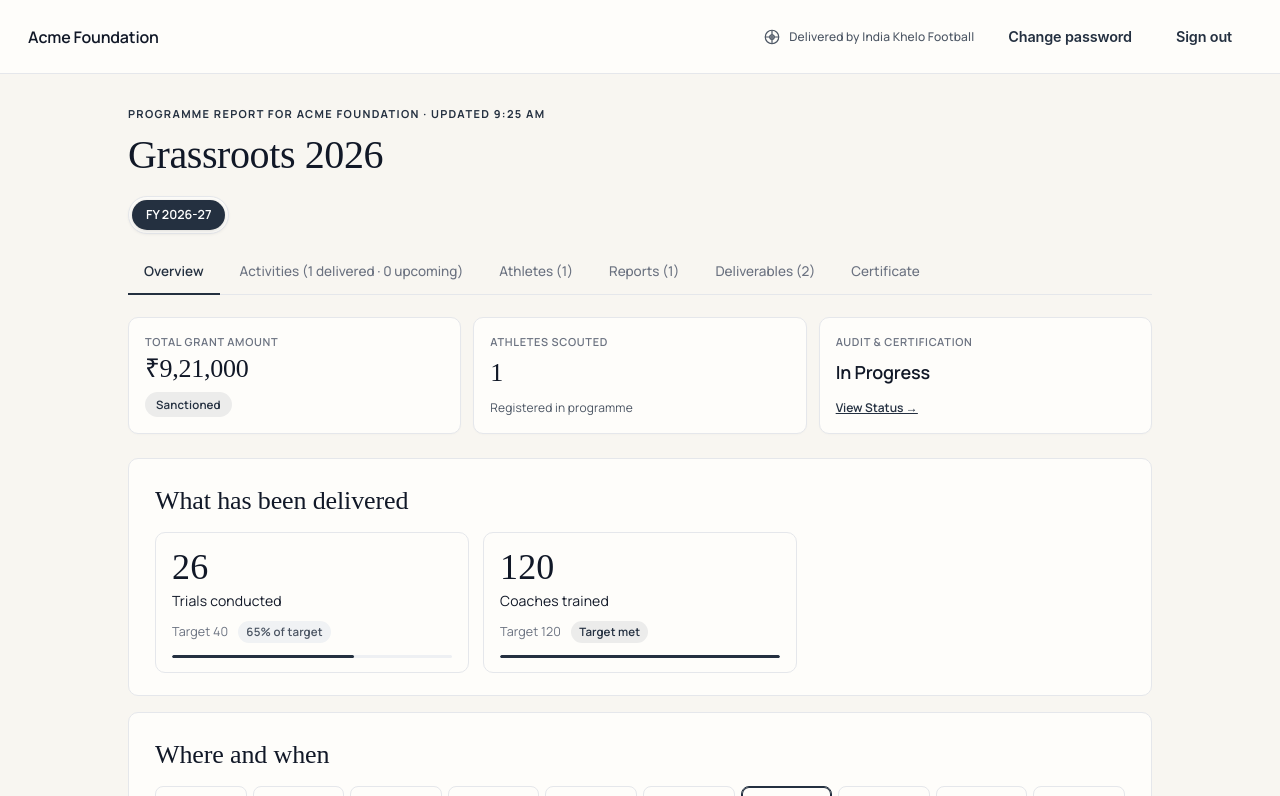
Test: D-026: the funder sees an athlete name, position, category and status, nothing more
Expected: the heading "What has been delivered" is shown, [155,486,408,515]
Click the tab "Athletes (1)" at (536, 272), box [483,250,589,295]
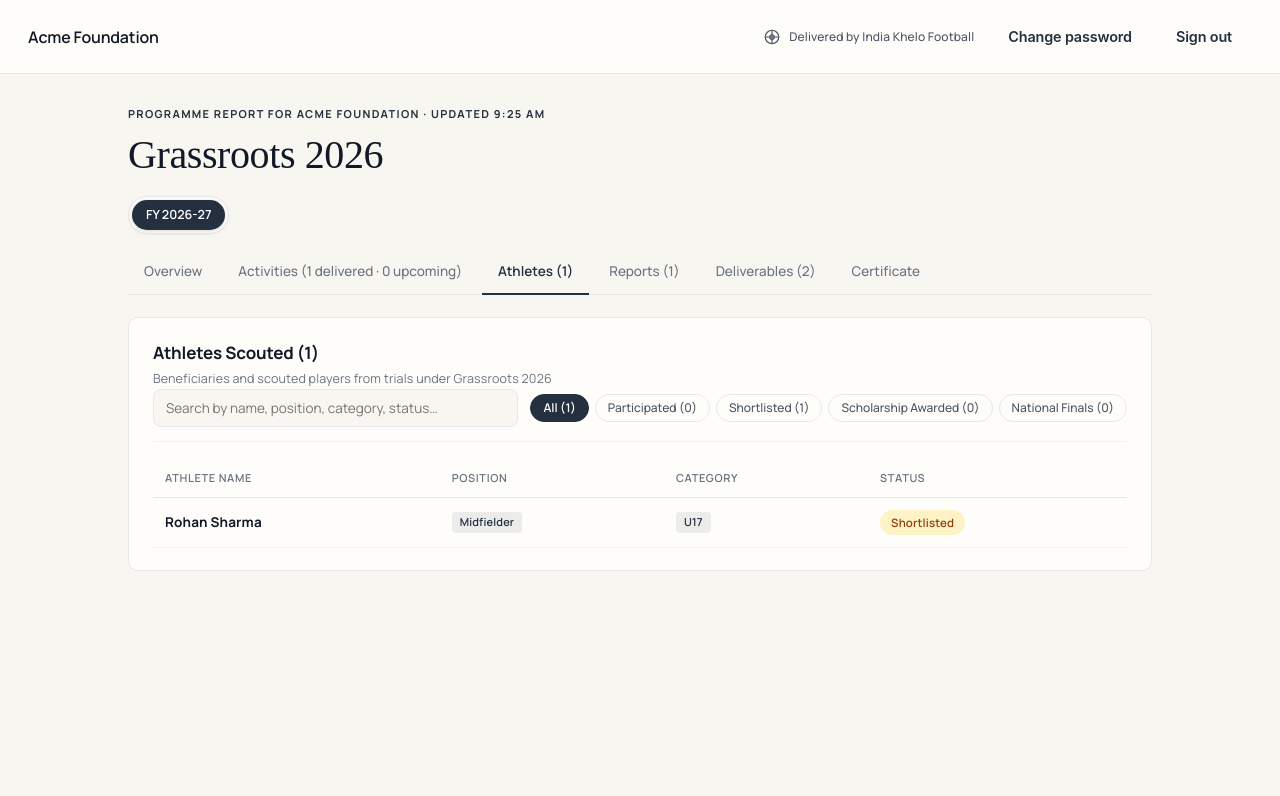
Expected: the column headings read "Athlete Name", "Position", "Category", "Status", in this order, [153,460,440,497]; [440,460,664,497]; [664,460,868,497]; [868,460,1127,497]
Expected: the cells read "Rohan Sharma", "Midfielder", "U17", "Shortlisted", in this order, [153,497,440,547]; [440,497,664,547]; [664,497,868,547]; [868,497,1127,547]
